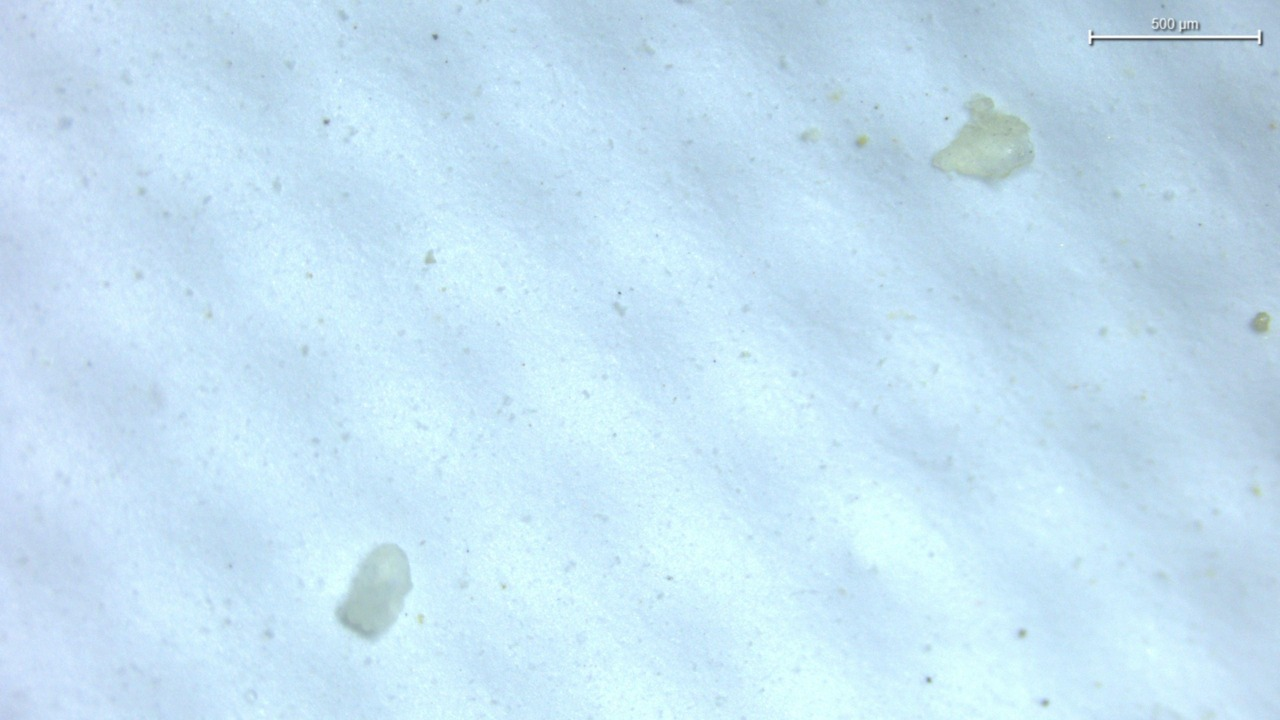microplastic_fragment: (933, 94, 1034, 178), (336, 544, 412, 638)
